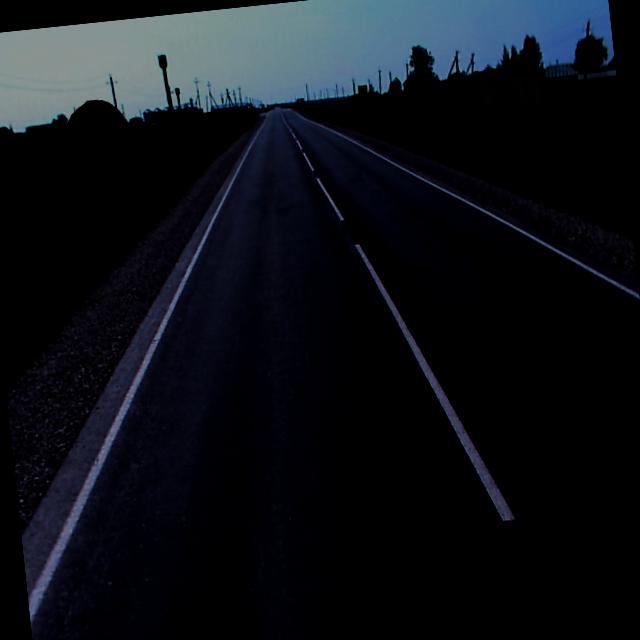road: (20, 108, 640, 640)
